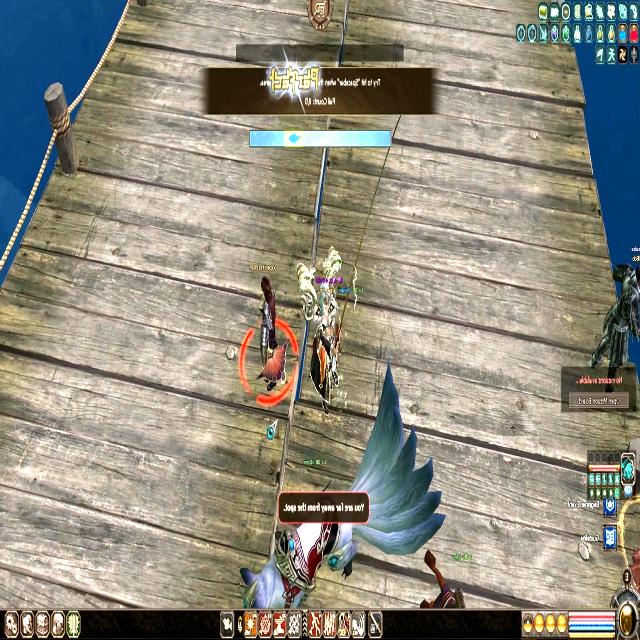fishes: (287, 132, 302, 146)
